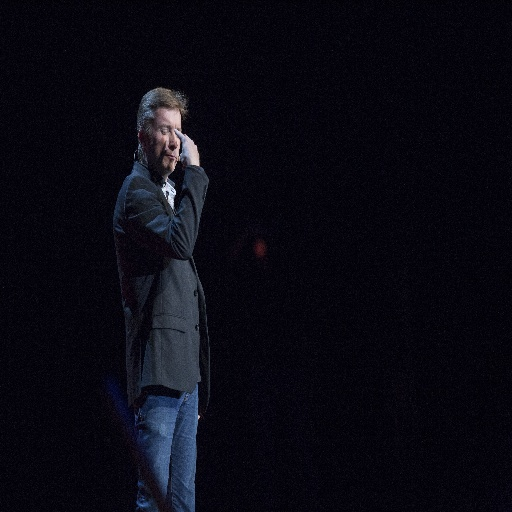hand: (173, 125, 199, 164)
